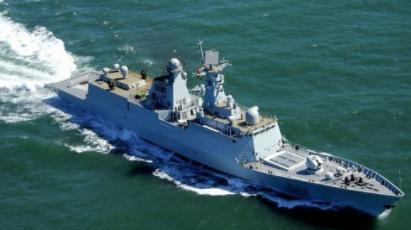warship: (41, 38, 407, 213)
